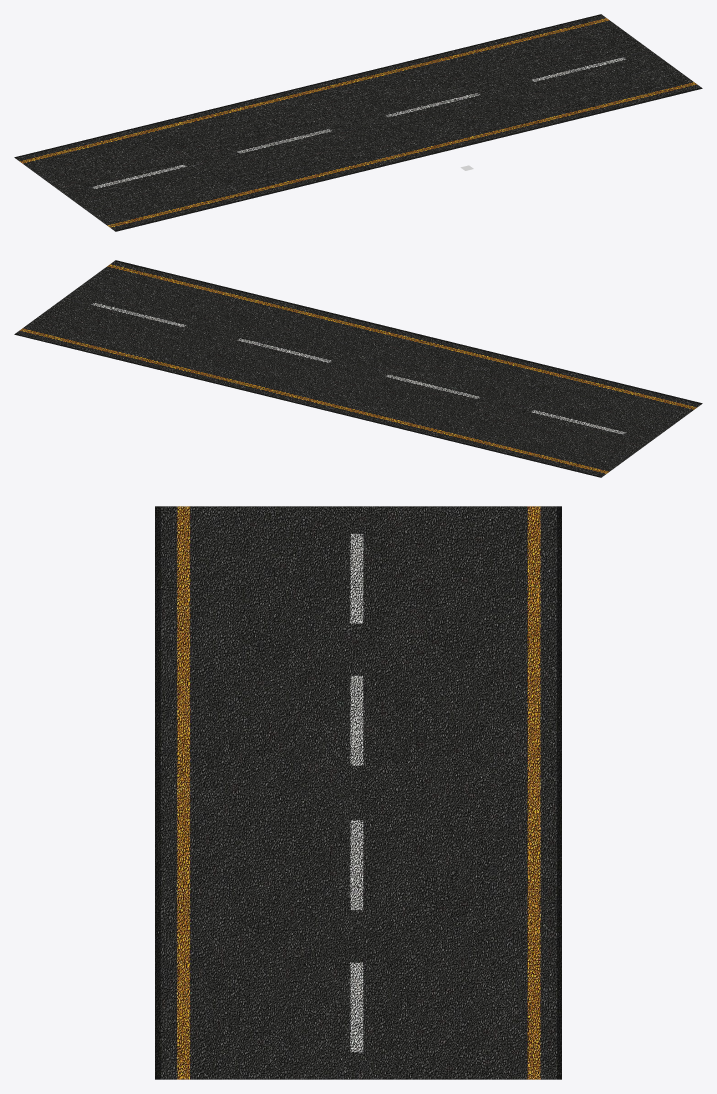
Rendered from 1road.glb.
3 views of the same model, one above another, from view 1: azimuth 30°, elevation 25°; view 2: azimuth 150°, elevation 25°; view 3: azimuth 270°, elevation 25° (orthographic). The views are drawn at different scales.
Visible parts, largest first — view 1: Plane.001; view 2: Plane.001; view 3: Plane.001.
Part boxes in pixels (bbox=[...]): Plane.001: bbox=[14, 14, 702, 231]; Plane.001: bbox=[14, 260, 702, 477]; Plane.001: bbox=[155, 506, 561, 1079].
Bounding box in the file's own units: 134 × 13 × 40.32.
Materials: 1 (1 with a texture image).
